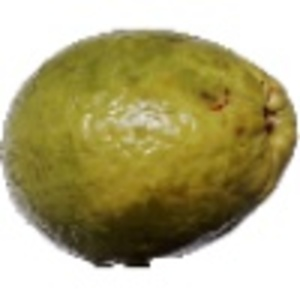goiaba: (1, 20, 296, 271)
